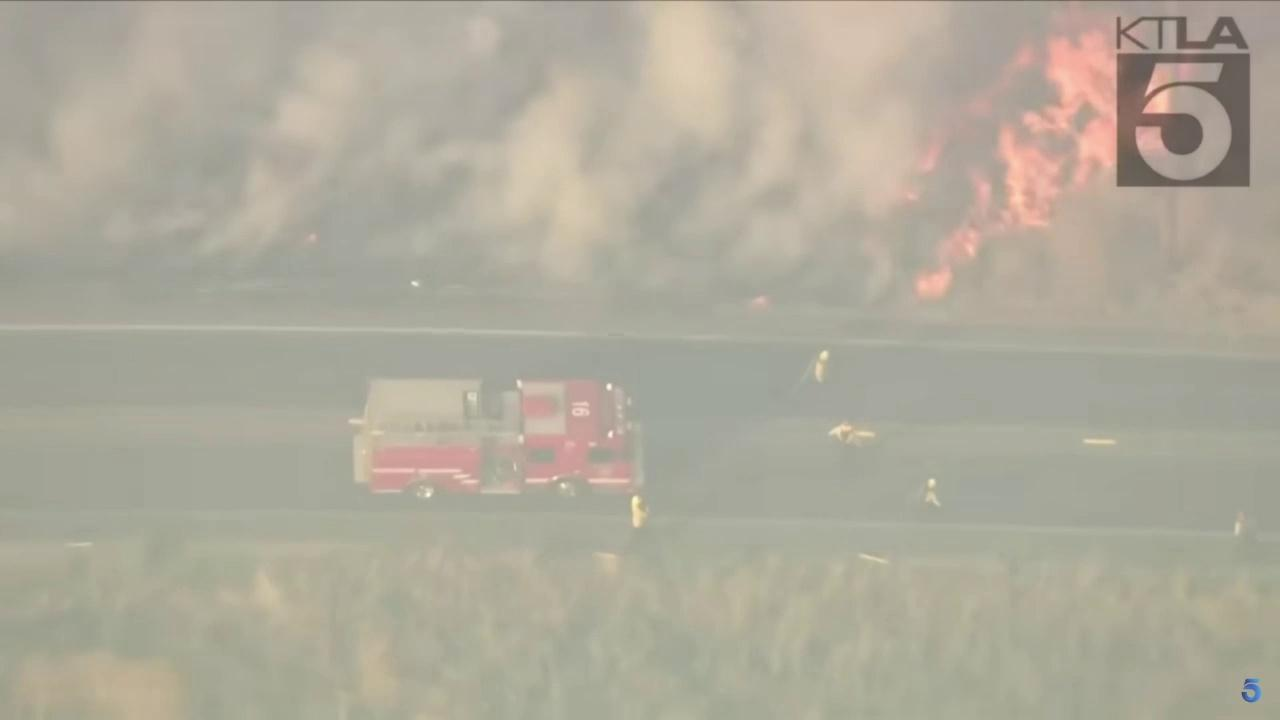fire: (899, 0, 1205, 299), (746, 293, 771, 315)
smoke: (0, 0, 998, 313)
